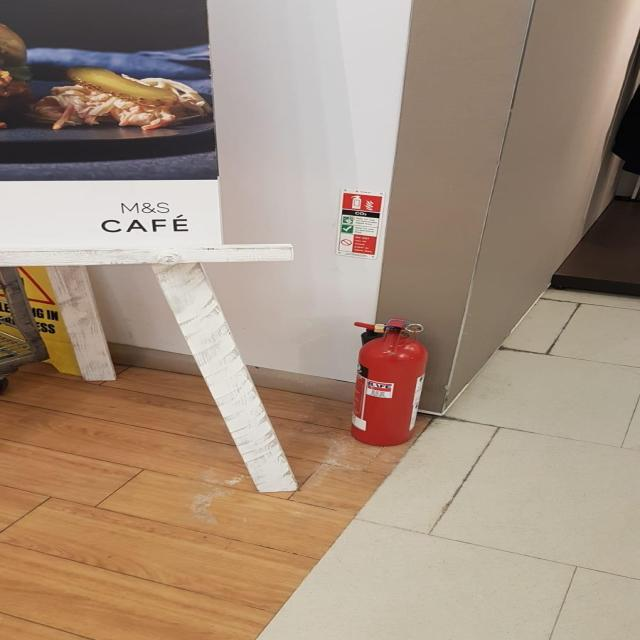fire_extinguisher: (341, 317, 433, 448)
